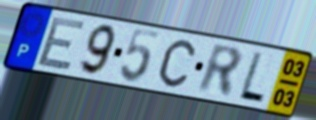5: (118, 26, 165, 85)
9: (77, 23, 118, 78)
C: (157, 38, 197, 90)
E: (34, 15, 89, 72)
L: (236, 50, 267, 106)
R: (195, 41, 245, 100)
